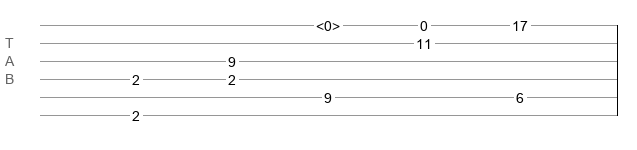0: (420, 18, 428, 28)
11: (416, 36, 432, 46)
17: (512, 18, 528, 28)
2: (132, 108, 140, 118), (132, 72, 140, 82), (228, 72, 236, 82)
6: (516, 90, 524, 100)
9: (228, 54, 236, 64), (324, 90, 332, 100)
harmonic: (316, 18, 340, 28)
